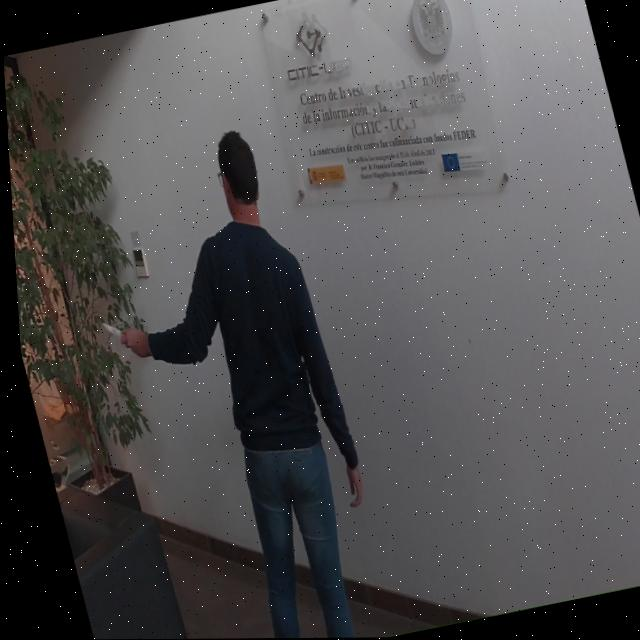knife: (98, 319, 122, 340)
